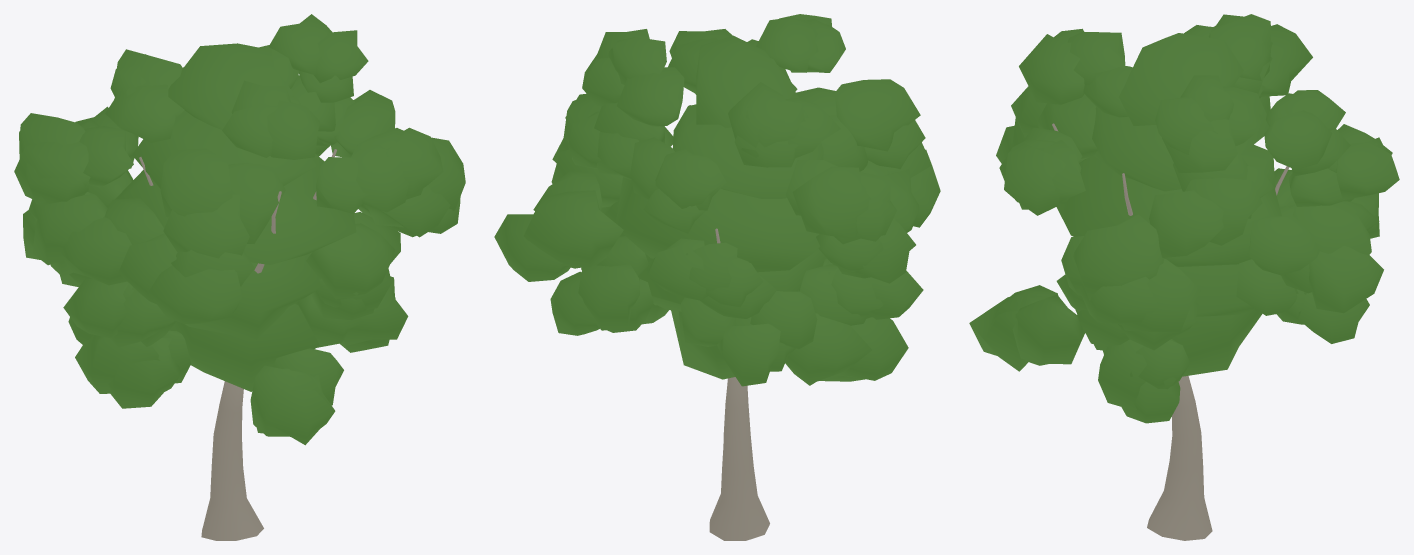
Rendered from Blender_GreenAsh_1.glb.
The picture shows the model from 3 angles, left to right: view 1: azimuth 30°, elevation 25°; view 2: azimuth 150°, elevation 25°; view 3: azimuth 270°, elevation 25°; orthographic projection. The views are drawn at different scales.
Visible parts, largest first — view 1: Blender_GreenAsh_1; view 2: Blender_GreenAsh_1; view 3: Blender_GreenAsh_1.
Boxes of the visible parts, x1,y1,x2,y2 form: Blender_GreenAsh_1: (14,14,465,540); Blender_GreenAsh_1: (494,14,940,540); Blender_GreenAsh_1: (969,14,1399,540).
Size of the model in its own units: 10.09 by 12.22 by 9.57.
